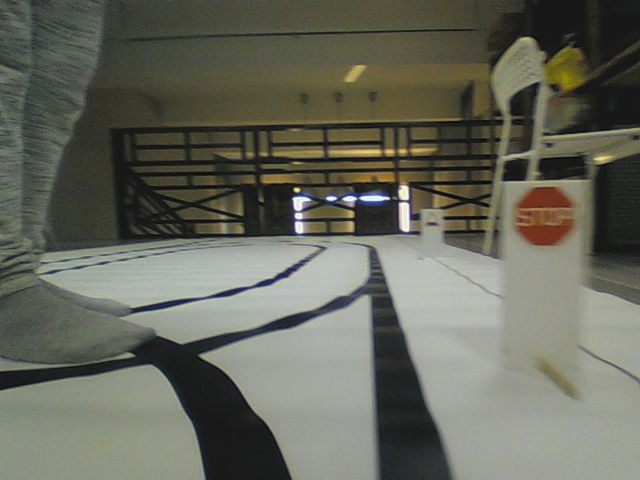Stop: (514, 184, 577, 248)
